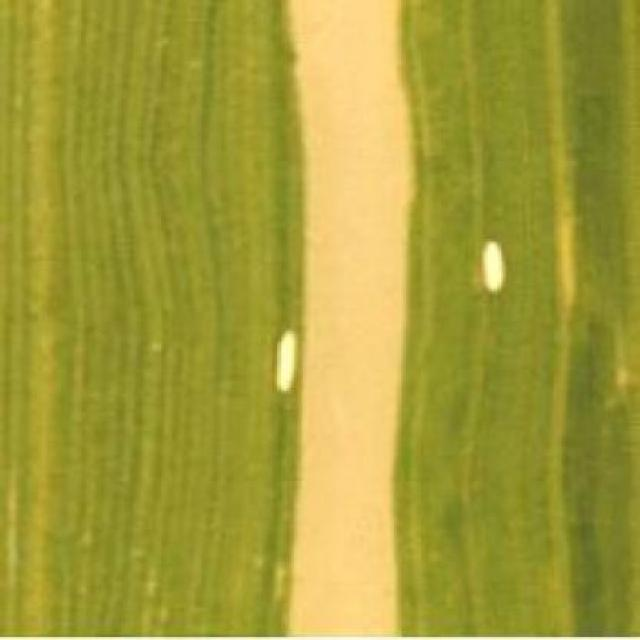whorl-maggot: (271, 325, 303, 403), (482, 234, 511, 301)
